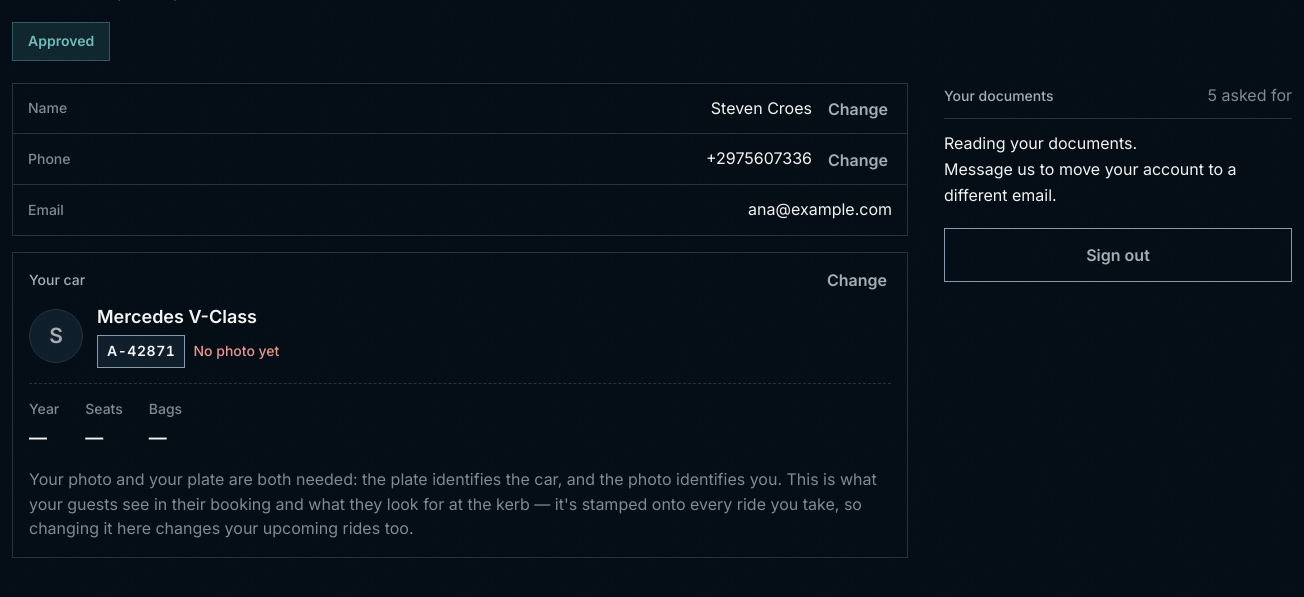
Test: Profile › won't save a car with no photo of the driver
Click the button "Change" in the row of "Your car": coordinates (857, 280) [823,258,891,302]
(page scrolled)
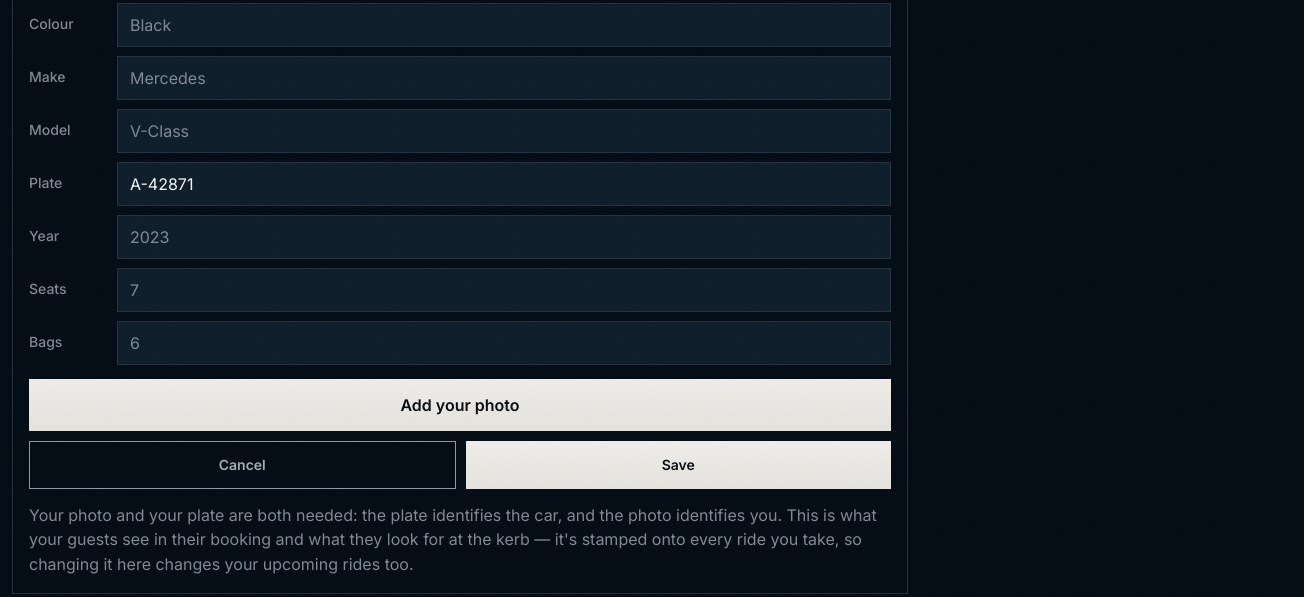
Click the button "Save": coordinates (678, 465) [466,441,891,489]
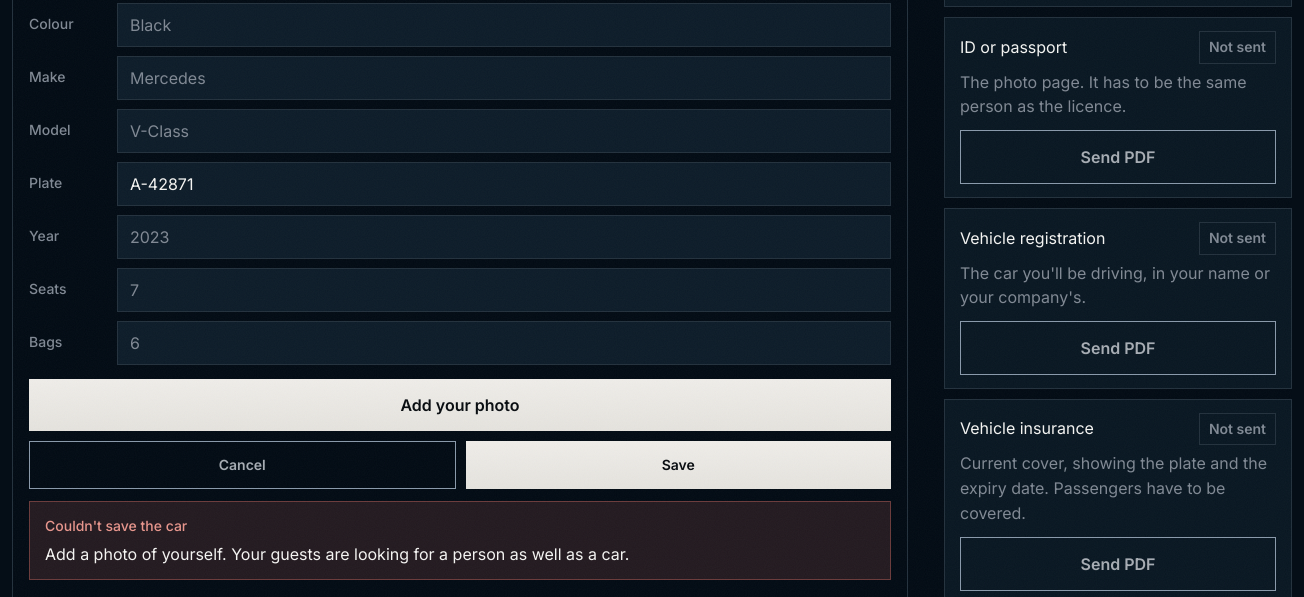
Result: the message shows "Add a photo of yourself" at [45,544,629,564]
